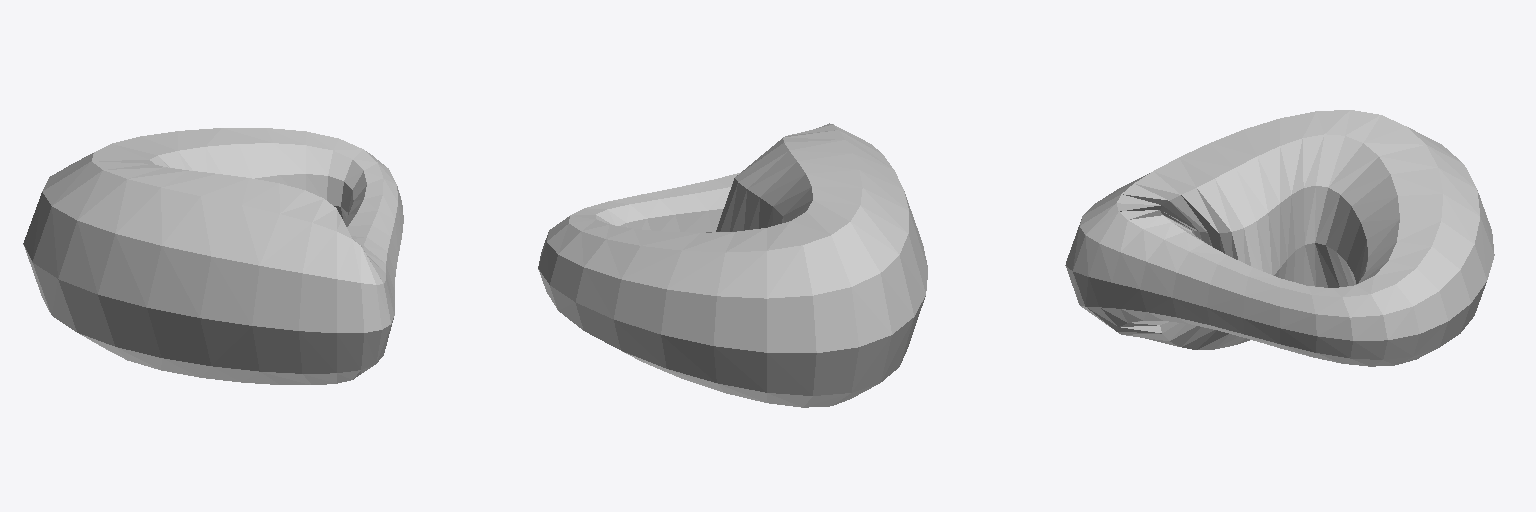
The model's file is default_office.obj.
3 views of the same model, side by side, from view 1: azimuth 30°, elevation 25°; view 2: azimuth 150°, elevation 25°; view 3: azimuth 270°, elevation 25° (orthographic).
Visible parts, largest first — view 1: XYZ_Function.001; view 2: XYZ_Function.001; view 3: XYZ_Function.001.
Part boxes in pixels (left/top/right/bottom): XYZ_Function.001: left=23, top=128, right=403, bottom=384; XYZ_Function.001: left=538, top=123, right=927, bottom=407; XYZ_Function.001: left=1065, top=110, right=1494, bottom=366.
Bounding box in the file's own units: 2.47 × 1.24 × 2.64.